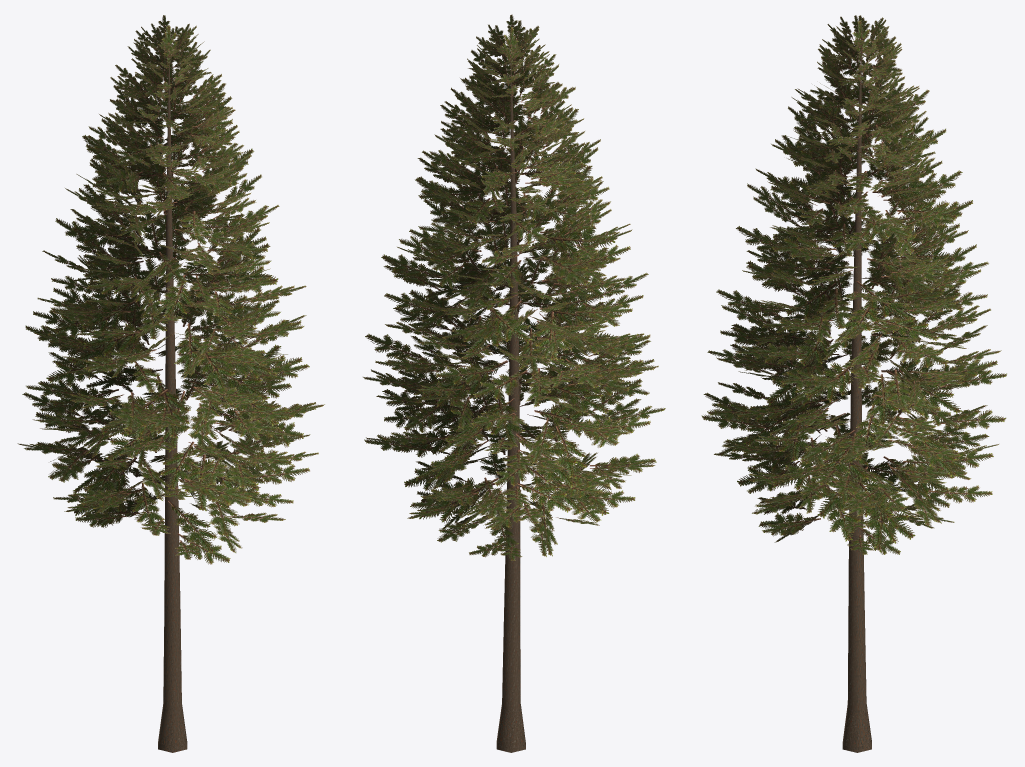
The model's file is fir_tall_b_lod2.gltf.
The picture shows the model from 3 angles, left to right: view 1: azimuth 30°, elevation 25°; view 2: azimuth 150°, elevation 25°; view 3: azimuth 270°, elevation 25°; orthographic projection.
Visible parts, largest first — view 1: fir_tall_b_LOD2; view 2: fir_tall_b_LOD2; view 3: fir_tall_b_LOD2.
Part boxes in pixels (x1,y1,x2,y2): fir_tall_b_LOD2: (17,15,324,752); fir_tall_b_LOD2: (363,14,665,752); fir_tall_b_LOD2: (701,15,1006,752).
Bounding box in the file's own units: 13.52 × 33.63 × 13.23.
2 materials, 2 textured.
